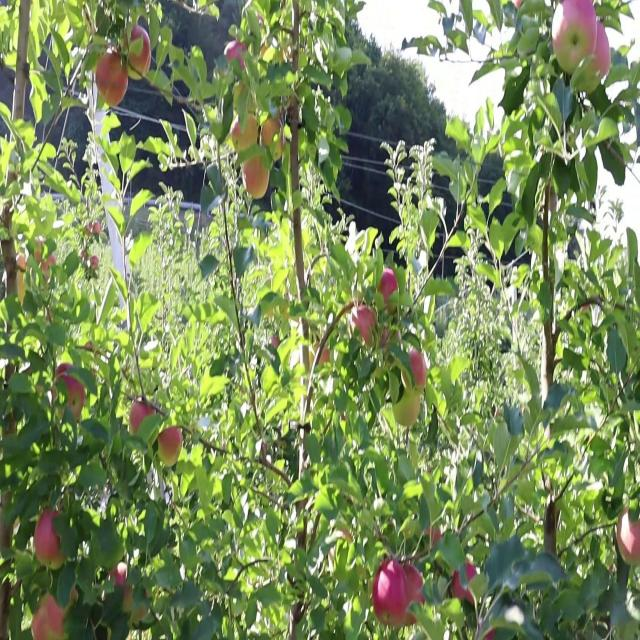apple: (552, 0, 597, 80), (372, 561, 407, 628), (96, 42, 128, 110), (52, 362, 88, 420), (616, 504, 640, 567), (32, 597, 67, 639), (128, 21, 152, 82), (36, 511, 62, 565), (404, 568, 426, 626), (392, 391, 423, 432), (244, 156, 271, 201), (592, 21, 612, 80), (232, 113, 260, 155), (352, 305, 378, 348), (452, 561, 477, 604), (404, 561, 425, 612), (128, 398, 156, 436), (260, 113, 285, 155), (404, 348, 428, 391), (160, 426, 184, 468), (376, 270, 400, 311), (224, 42, 249, 75), (36, 241, 56, 281), (8, 270, 27, 306), (112, 561, 128, 590), (424, 526, 443, 549), (124, 590, 134, 613)
